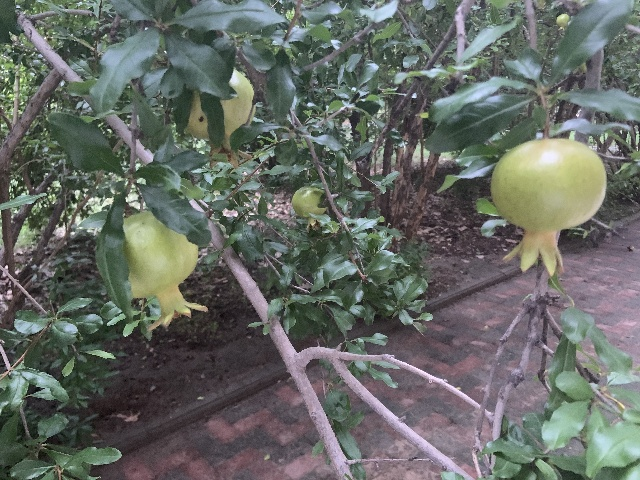mid-growth: (490, 138, 606, 276), (122, 210, 209, 332), (185, 69, 255, 168), (291, 185, 327, 232), (556, 13, 569, 30)
